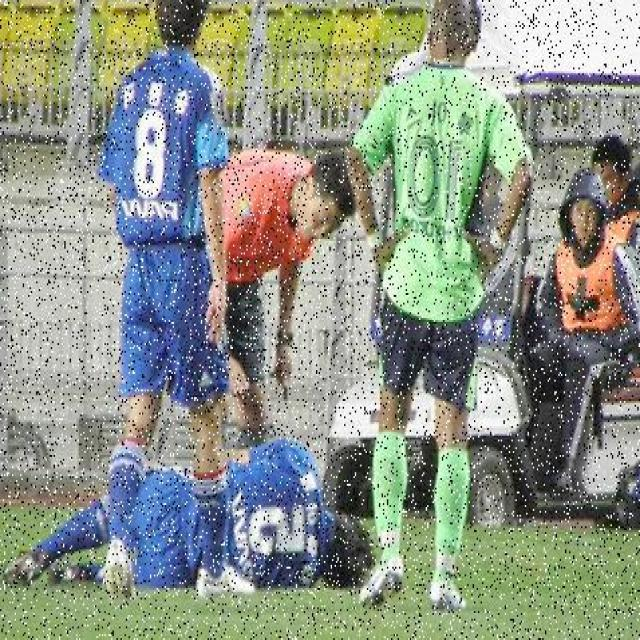fall: (11, 434, 367, 607)
